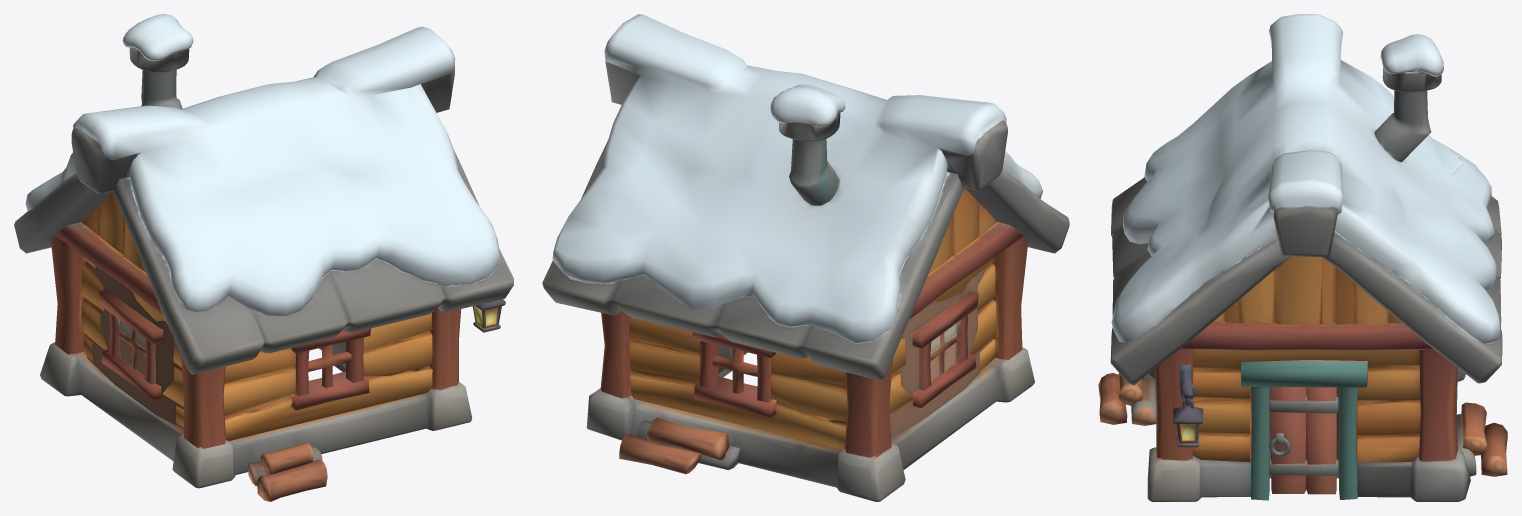
Rendered from raw.glb.
3 views of the same model, side by side, from view 1: azimuth 30°, elevation 25°; view 2: azimuth 150°, elevation 25°; view 3: azimuth 270°, elevation 25° (orthographic). The views are drawn at different scales.
Parts seen in each view (by area): view 1: tripo_node_bb21bd5d-1a96-45ce-a475-a2005c0537e6; view 2: tripo_node_bb21bd5d-1a96-45ce-a475-a2005c0537e6; view 3: tripo_node_bb21bd5d-1a96-45ce-a475-a2005c0537e6.
Boxes of the visible parts, left/top/right/bottom form: tripo_node_bb21bd5d-1a96-45ce-a475-a2005c0537e6: left=14, top=14, right=513, bottom=501; tripo_node_bb21bd5d-1a96-45ce-a475-a2005c0537e6: left=542, top=14, right=1069, bottom=501; tripo_node_bb21bd5d-1a96-45ce-a475-a2005c0537e6: left=1098, top=14, right=1507, bottom=501.
Size of the model in its own units: 0.9995 by 0.9692 by 0.9478.
1 material, 1 textured.
